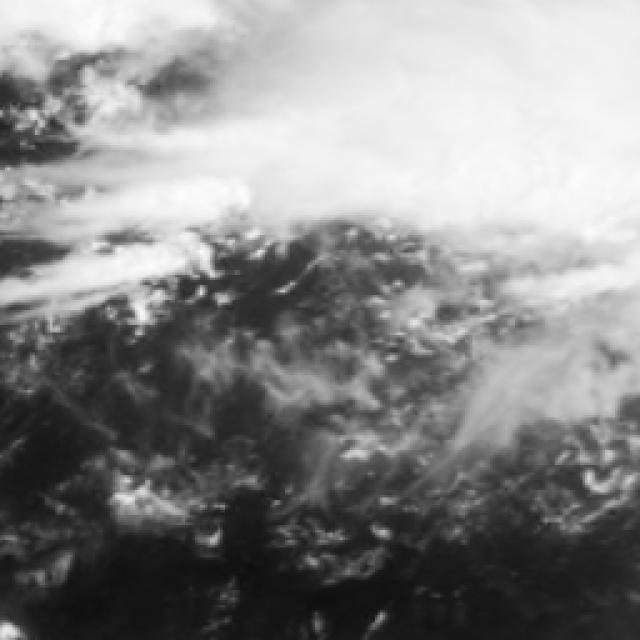CB: (275, 3, 640, 215)
